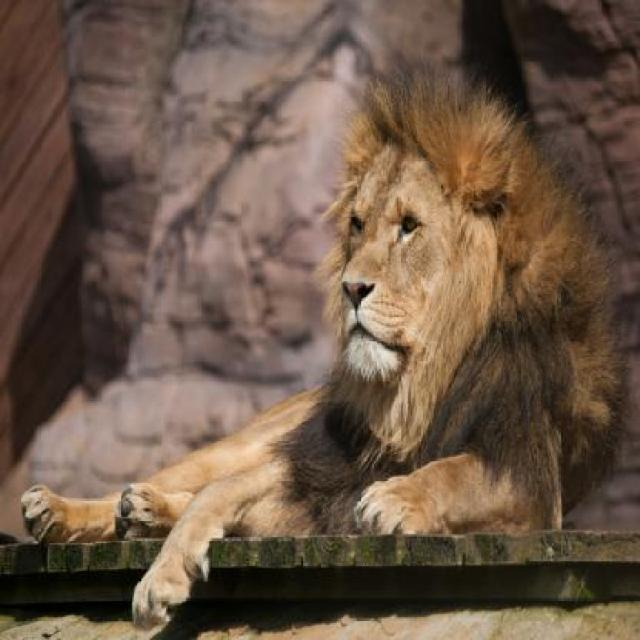Lion: (15, 54, 634, 631)
